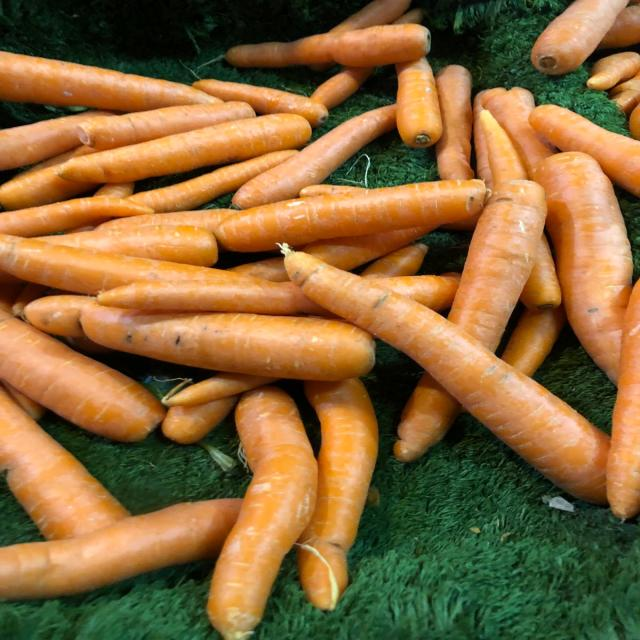carrot: (278, 240, 640, 506), (183, 369, 325, 640), (211, 175, 492, 254), (53, 110, 316, 184)
